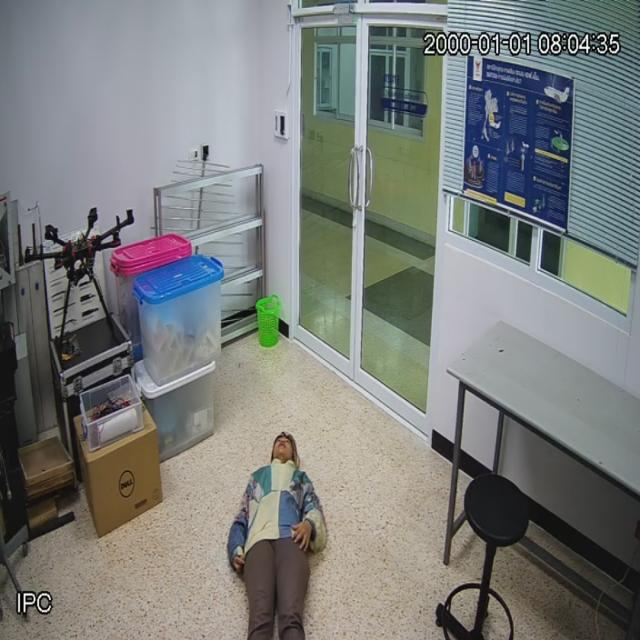fall: (230, 425, 328, 640)
